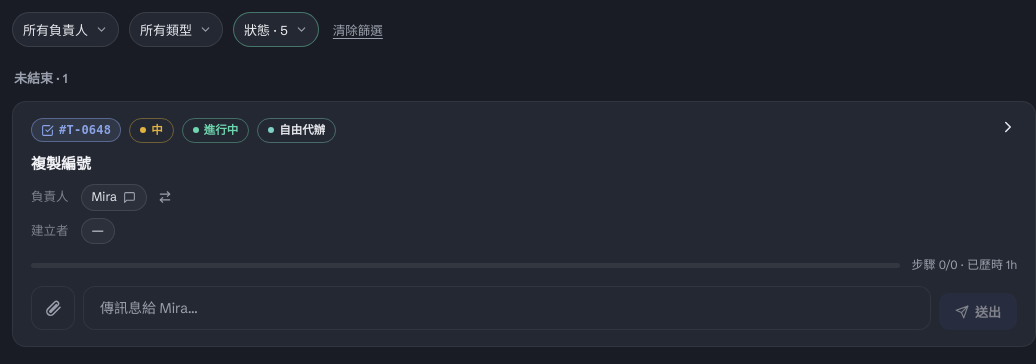
Test: TaskCard 任務編號 chip 點擊複製 (owner 2026-07-19) › copies the display task number to the clipboard and flashes 已複製
Step 1. Click the button with test id "task-no" → {"x": 76, "y": 130}, box x1=31 y1=118 x2=121 y2=142
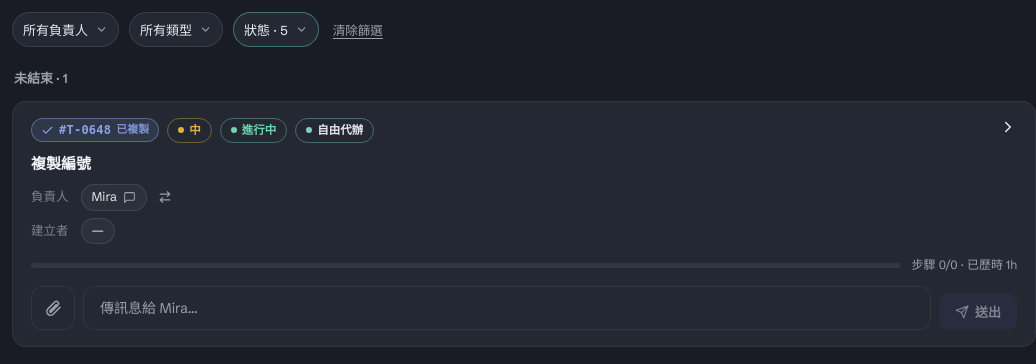
Check: the message "已複製" is shown, box x1=116 y1=122 x2=149 y2=138
